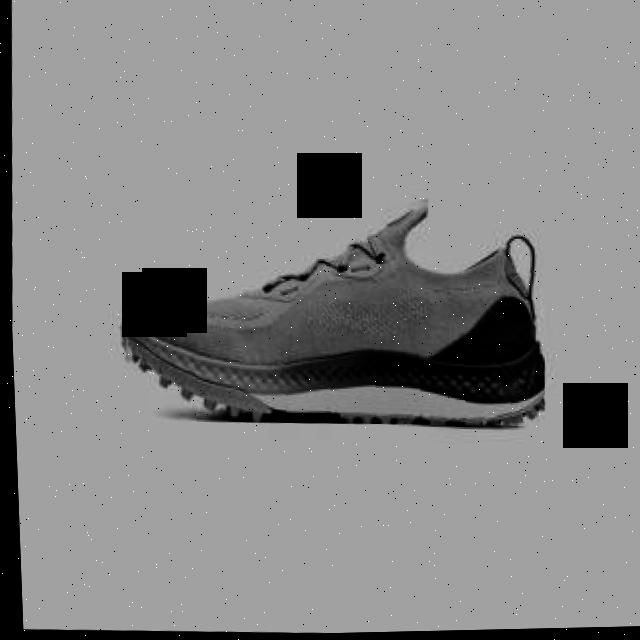shoe: (110, 183, 549, 436)
